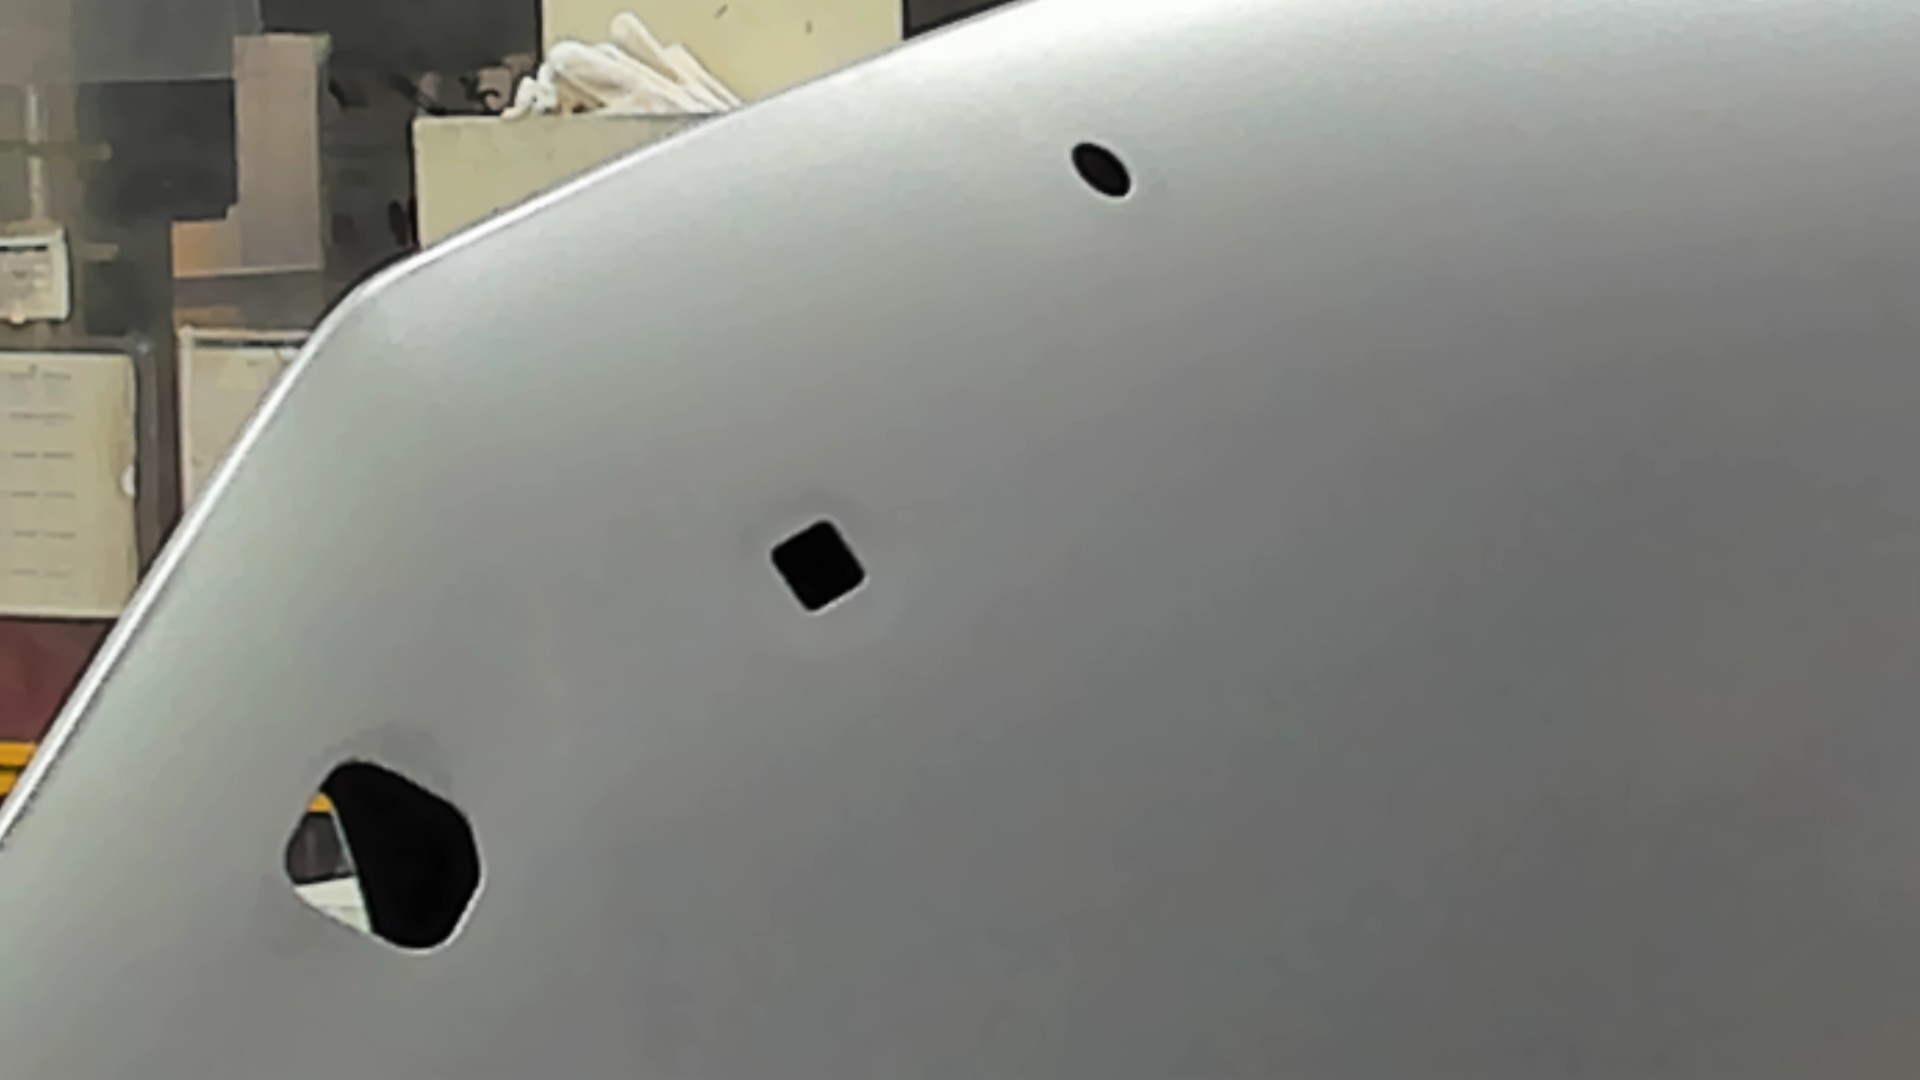capo: (874, 206, 1920, 1080)
chico: (1064, 136, 1137, 203)
grande: (276, 752, 488, 956)
mediano: (764, 508, 874, 622)
